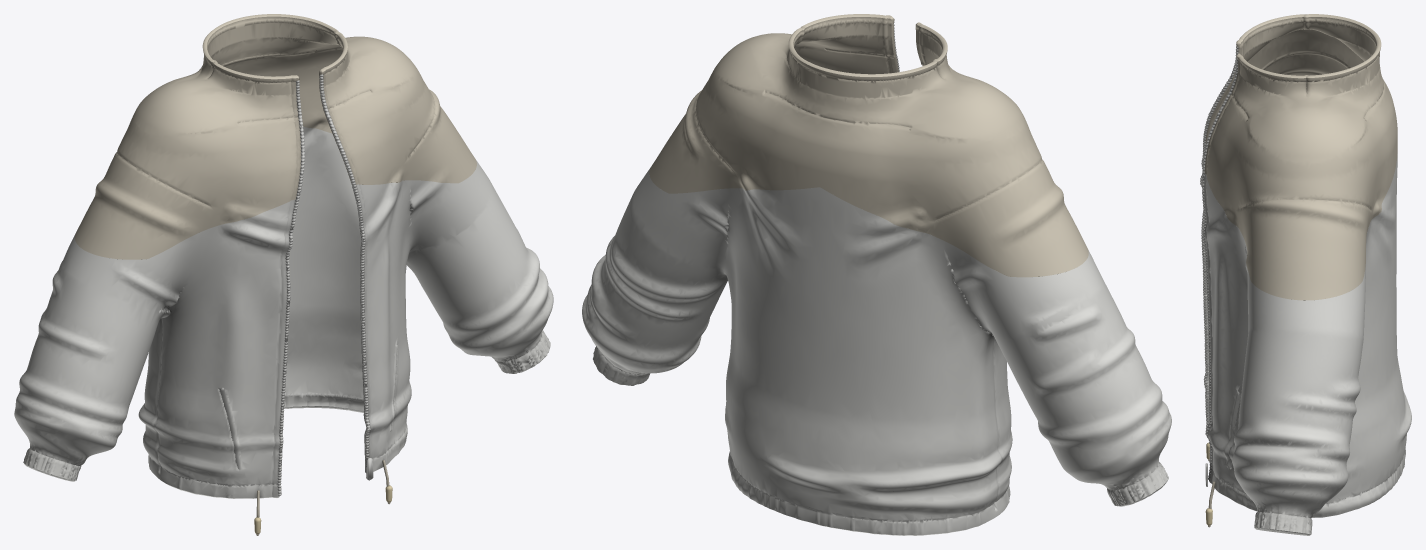
Rendered from 07_cortavientos_abierta.glb.
3 renders of one model, left to right at view 1: azimuth 30°, elevation 25°; view 2: azimuth 150°, elevation 25°; view 3: azimuth 270°, elevation 25°, orthographic. The views are drawn at different scales.
Parts seen in each view (by area): view 1: Cortavientos (abierta); view 2: Cortavientos (abierta); view 3: Cortavientos (abierta).
Boxes of the visible parts, x1,y1,x2,y2 form: Cortavientos (abierta): (14,14,553,535); Cortavientos (abierta): (582,14,1171,535); Cortavientos (abierta): (1200,14,1411,535).
Size of the model in its own units: 1.02 by 0.8174 by 0.3477.
